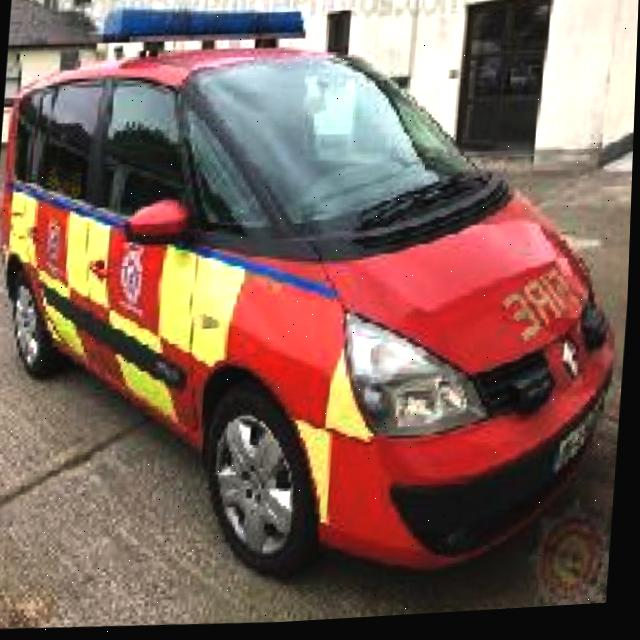emergency: (0, 0, 640, 613)
